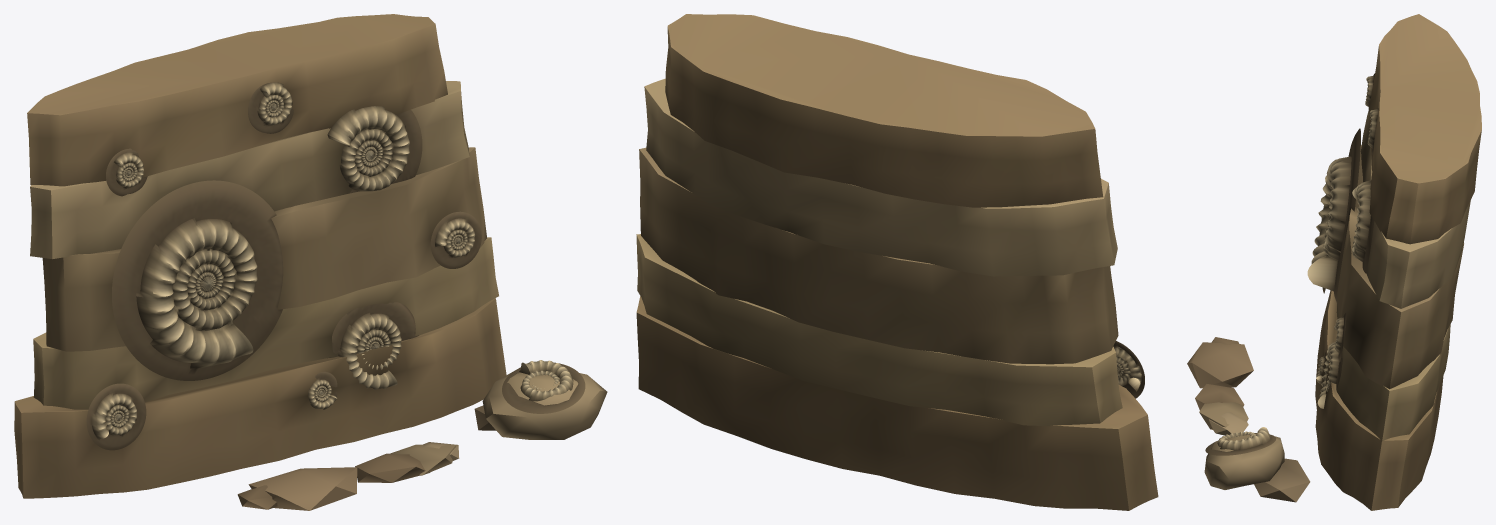
File: fossil_slab.glb
The picture shows the model from 3 angles, left to right: view 1: azimuth 30°, elevation 25°; view 2: azimuth 150°, elevation 25°; view 3: azimuth 270°, elevation 25°; orthographic projection. The views are drawn at different scales.
Visible parts, largest first — view 1: FossilSlab; view 2: FossilSlab; view 3: FossilSlab.
Part boxes in pixels (x1=…): FossilSlab: x1=14, y1=14, x2=607, y2=510; FossilSlab: x1=636, y1=14, x2=1158, y2=510; FossilSlab: x1=1187, y1=14, x2=1481, y2=510.
Bounding box in the file's own units: 2.73 × 1.95 × 1.62.
